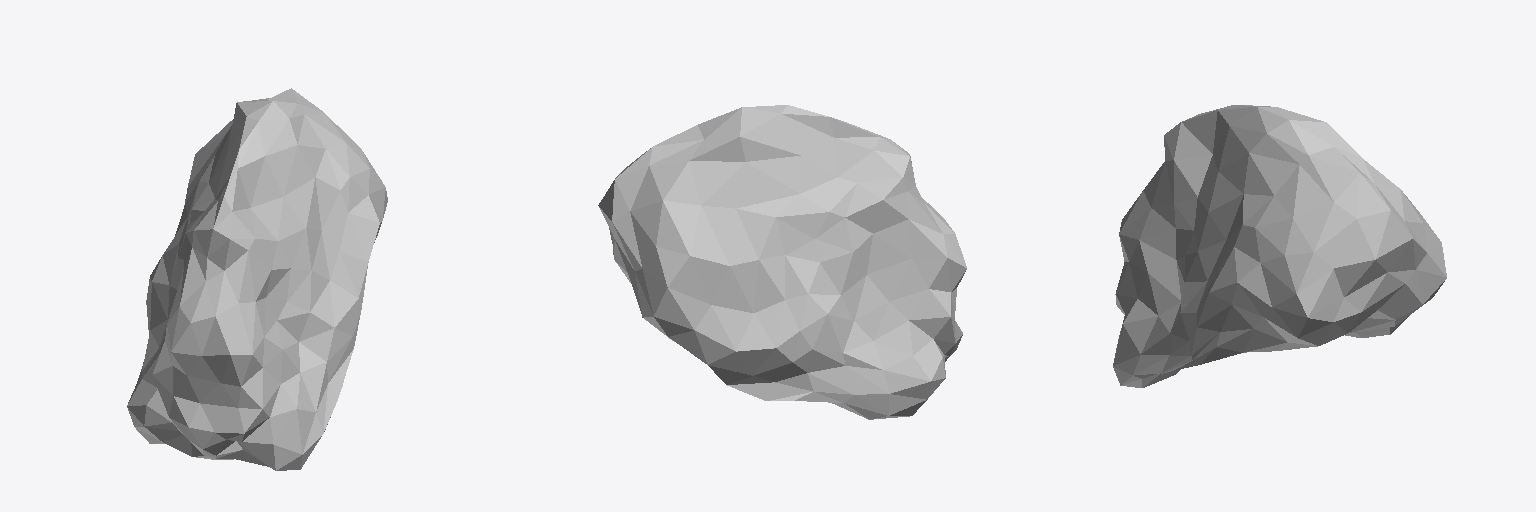
The model's file is asteroid24.obj.
3 renders of one model, left to right at view 1: azimuth 30°, elevation 25°; view 2: azimuth 150°, elevation 25°; view 3: azimuth 270°, elevation 25°, orthographic.
Parts seen in each view (by area): view 1: asteroid; view 2: asteroid; view 3: asteroid.
Part boxes in pixels (x1,y1,x2,y2): asteroid: (127, 88, 387, 470); asteroid: (598, 105, 966, 419); asteroid: (1113, 105, 1446, 387).
Bounding box in the file's own units: 53.64 × 51.37 × 53.1.